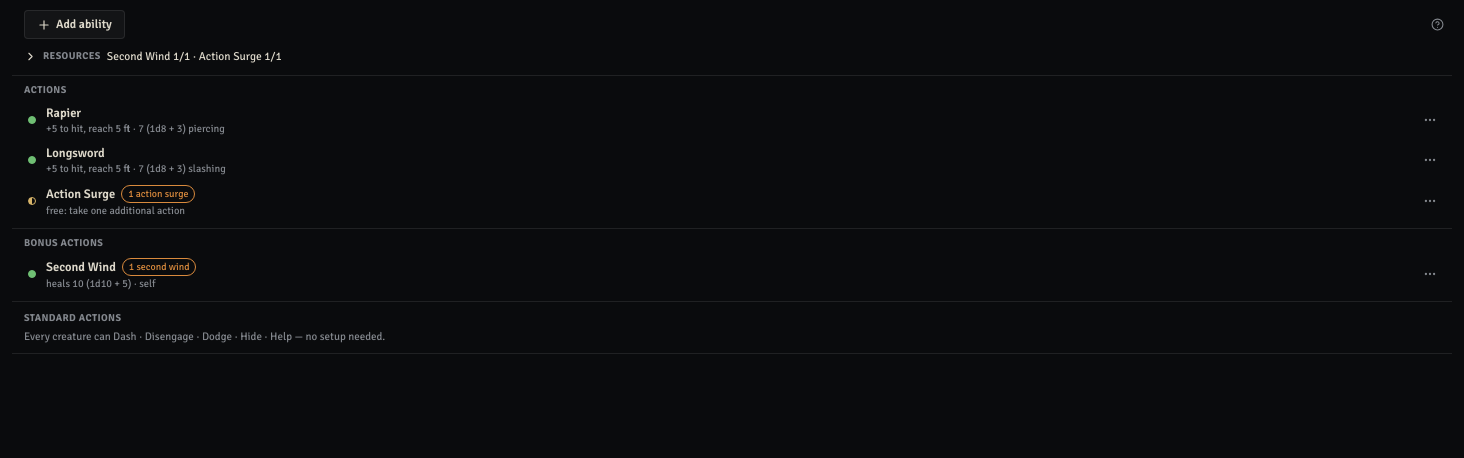
it: ActionsTab › edits a weapon in the ability editor in a single undo step
This screenshot has width=1464, height=458.
Step 1. Click the button with aria-label "Edit Rapier" → (64, 113), box [42,100,1410,140]
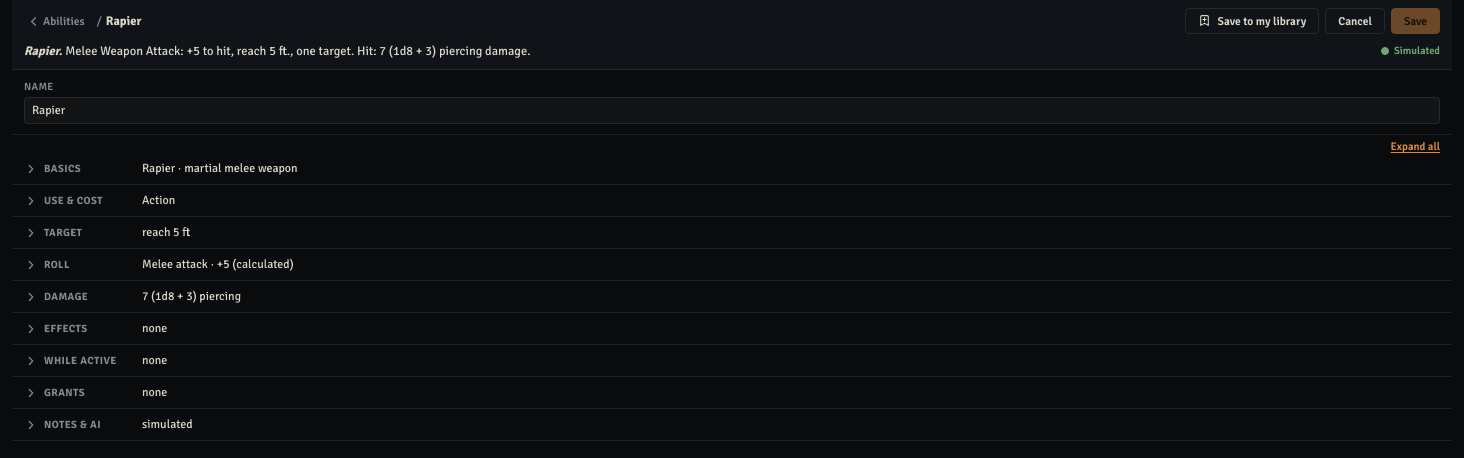
Expected: the field labelled "Name" holds "Rapier"
Step 2. Replace the text in the field labelled "Name" with "Flametongue" → (732, 111), box [24,97,1440,124]
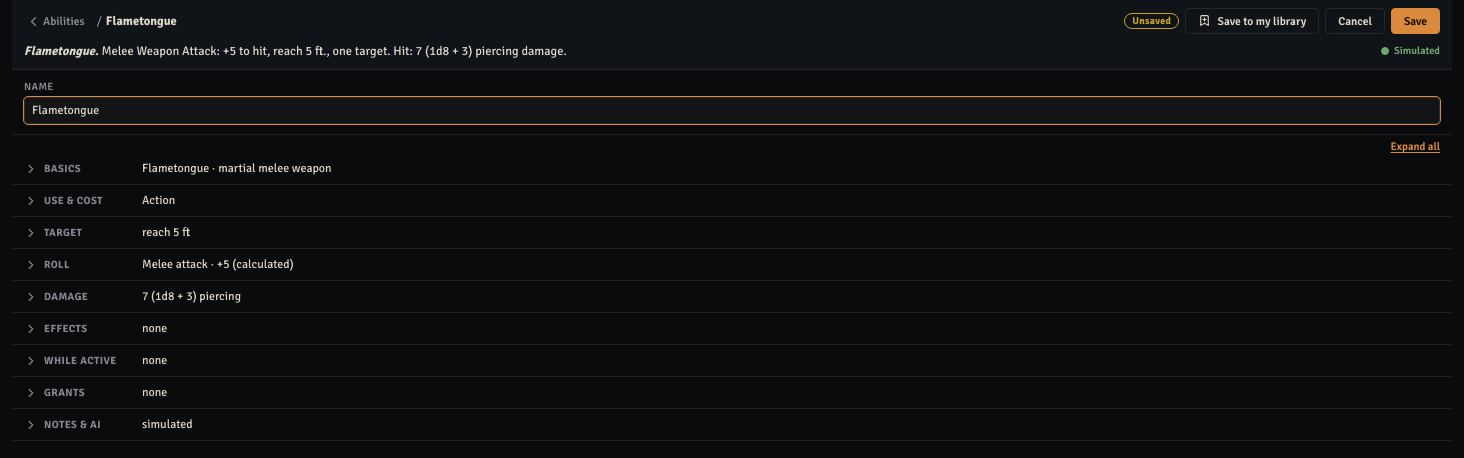
Step 3. Click the button "Save" → (1415, 21), box [1391,8,1440,34]
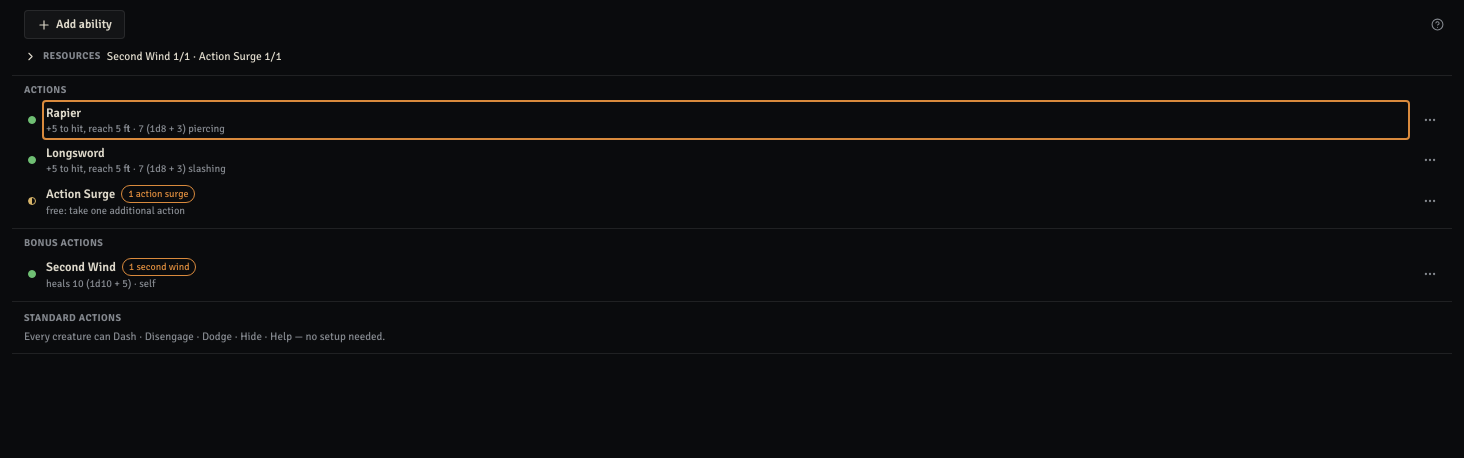
Expected: the text "Rapier" is shown, [46,105,81,121]
